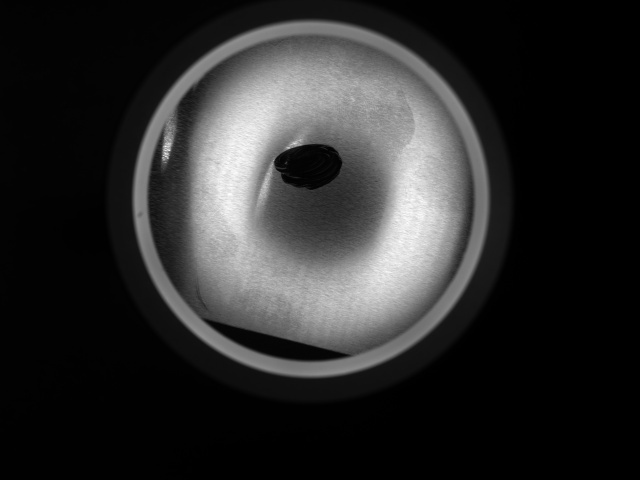zang_wu: (272, 141, 345, 189)
